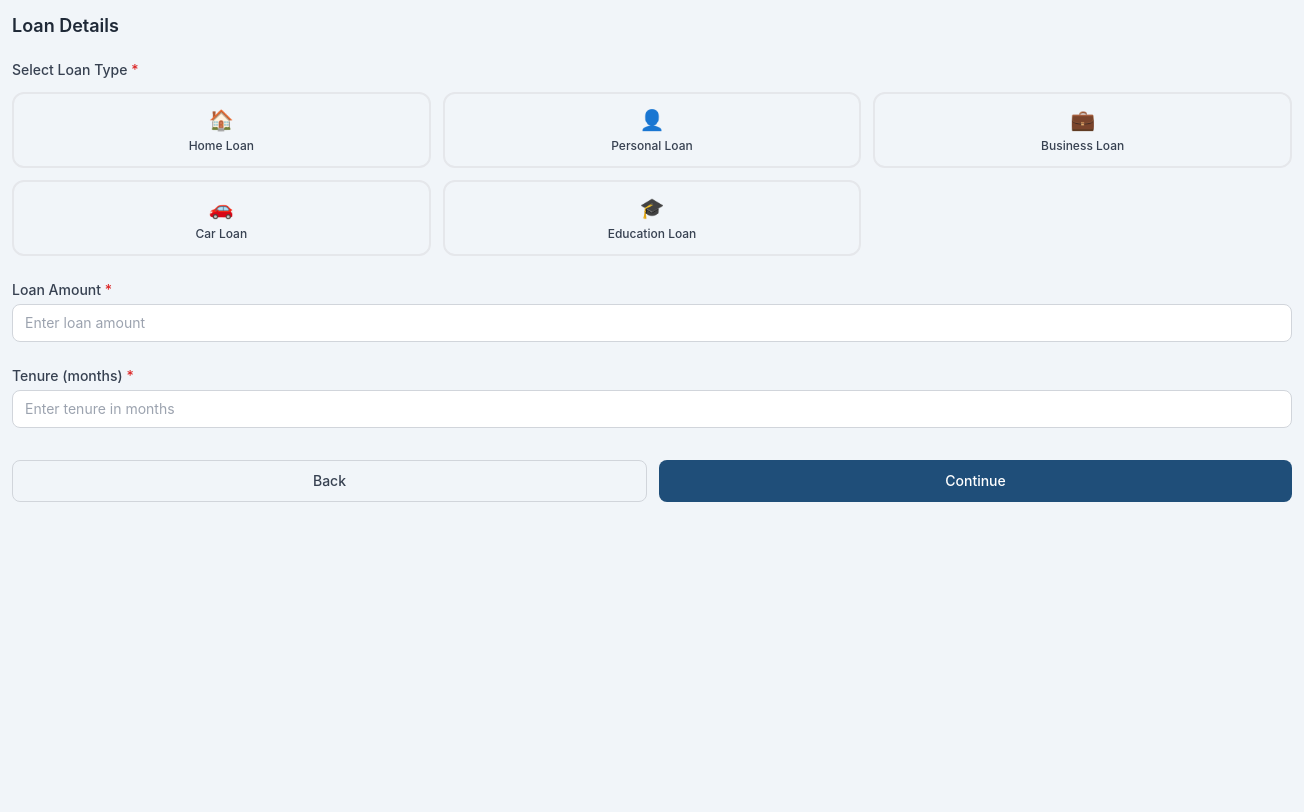
Test case: LoanDetails component › shows interest rate banner when loan type is selected
Click the radio button with test id "loan-type-personal" at {"x": 652, "y": 130}, box [443, 92, 861, 168]
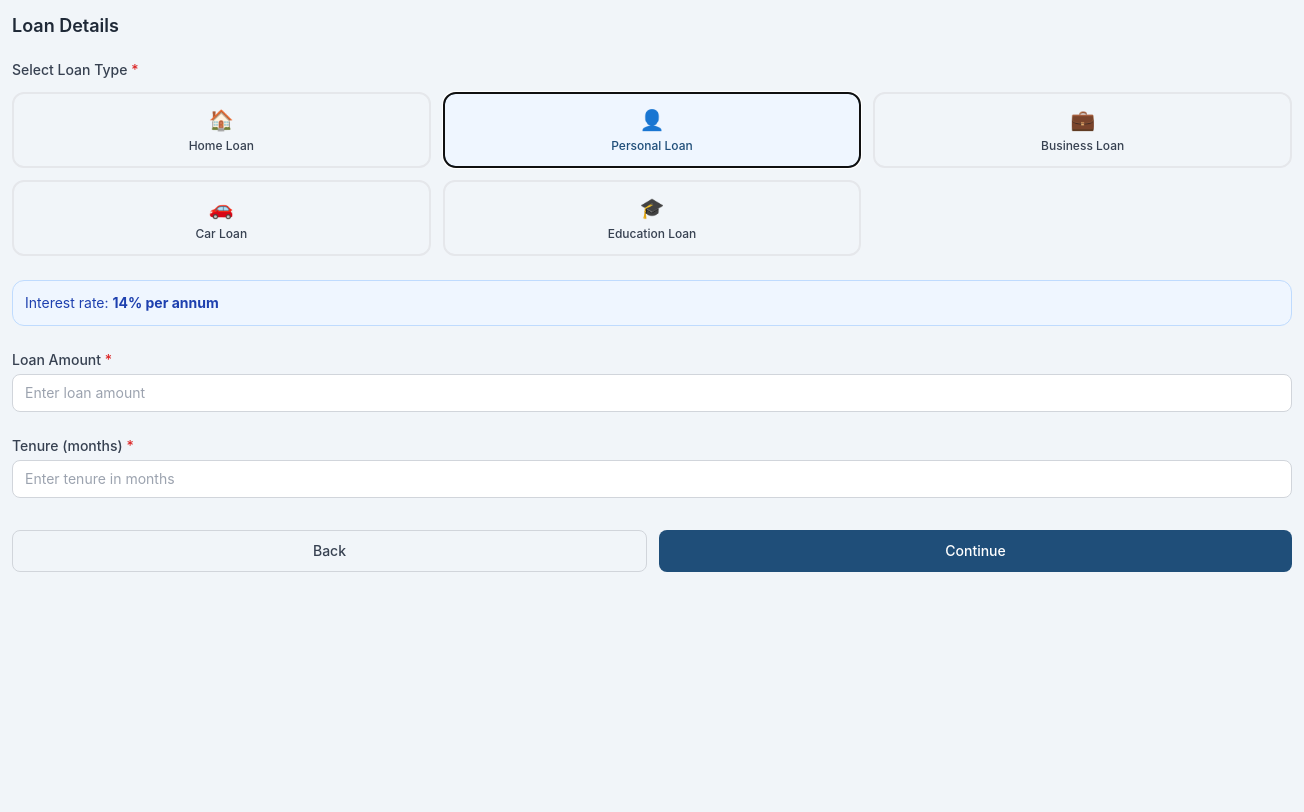
Now the text "14% per annum" is shown, box [112, 294, 219, 311]
